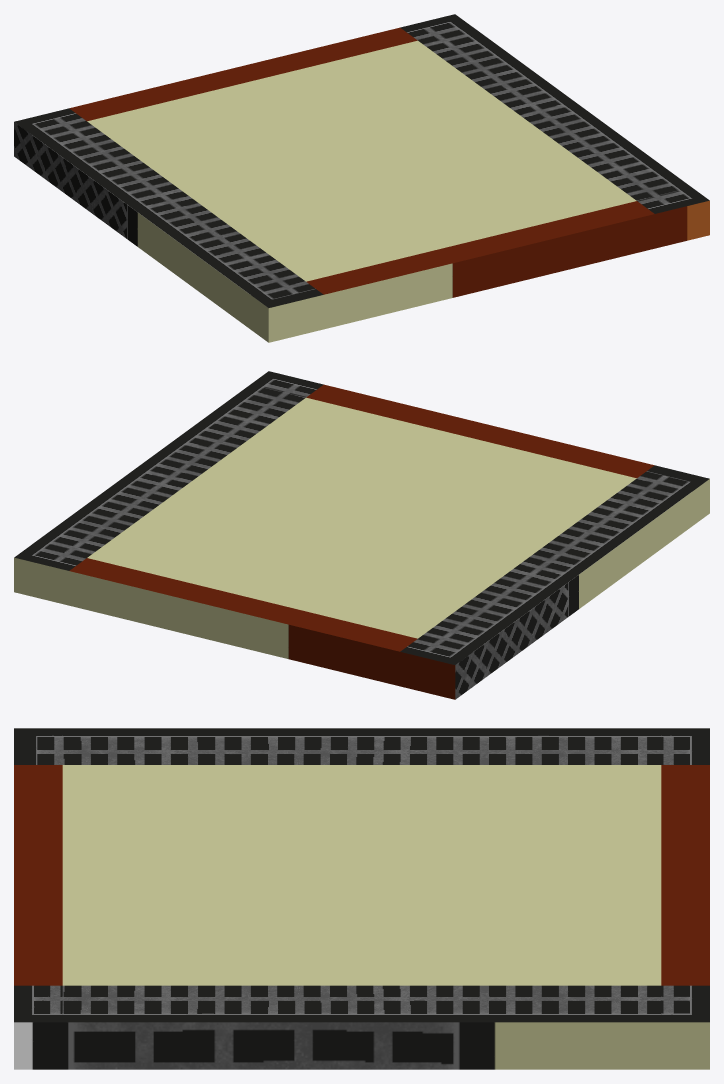
File: Floor_4x4.fbx
3 renders of one model, top to bottom at view 1: azimuth 30°, elevation 25°; view 2: azimuth 150°, elevation 25°; view 3: azimuth 270°, elevation 25°, orthographic. The views are drawn at different scales.
Parts seen in each view (by area): view 1: Floor_4x4; view 2: Floor_4x4; view 3: Floor_4x4.
Part boxes in pixels (x1,y1,x2,y2): Floor_4x4: (14,14,709,342); Floor_4x4: (14,371,709,699); Floor_4x4: (14,728,709,1069).
Bounding box in the file's own units: 400 × 30 × 400.
